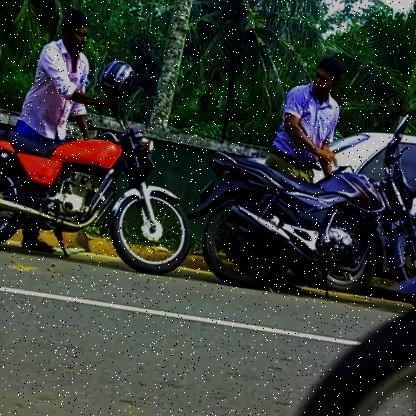motorcycle: (272, 39, 416, 416), (182, 101, 416, 317), (0, 52, 196, 286)
